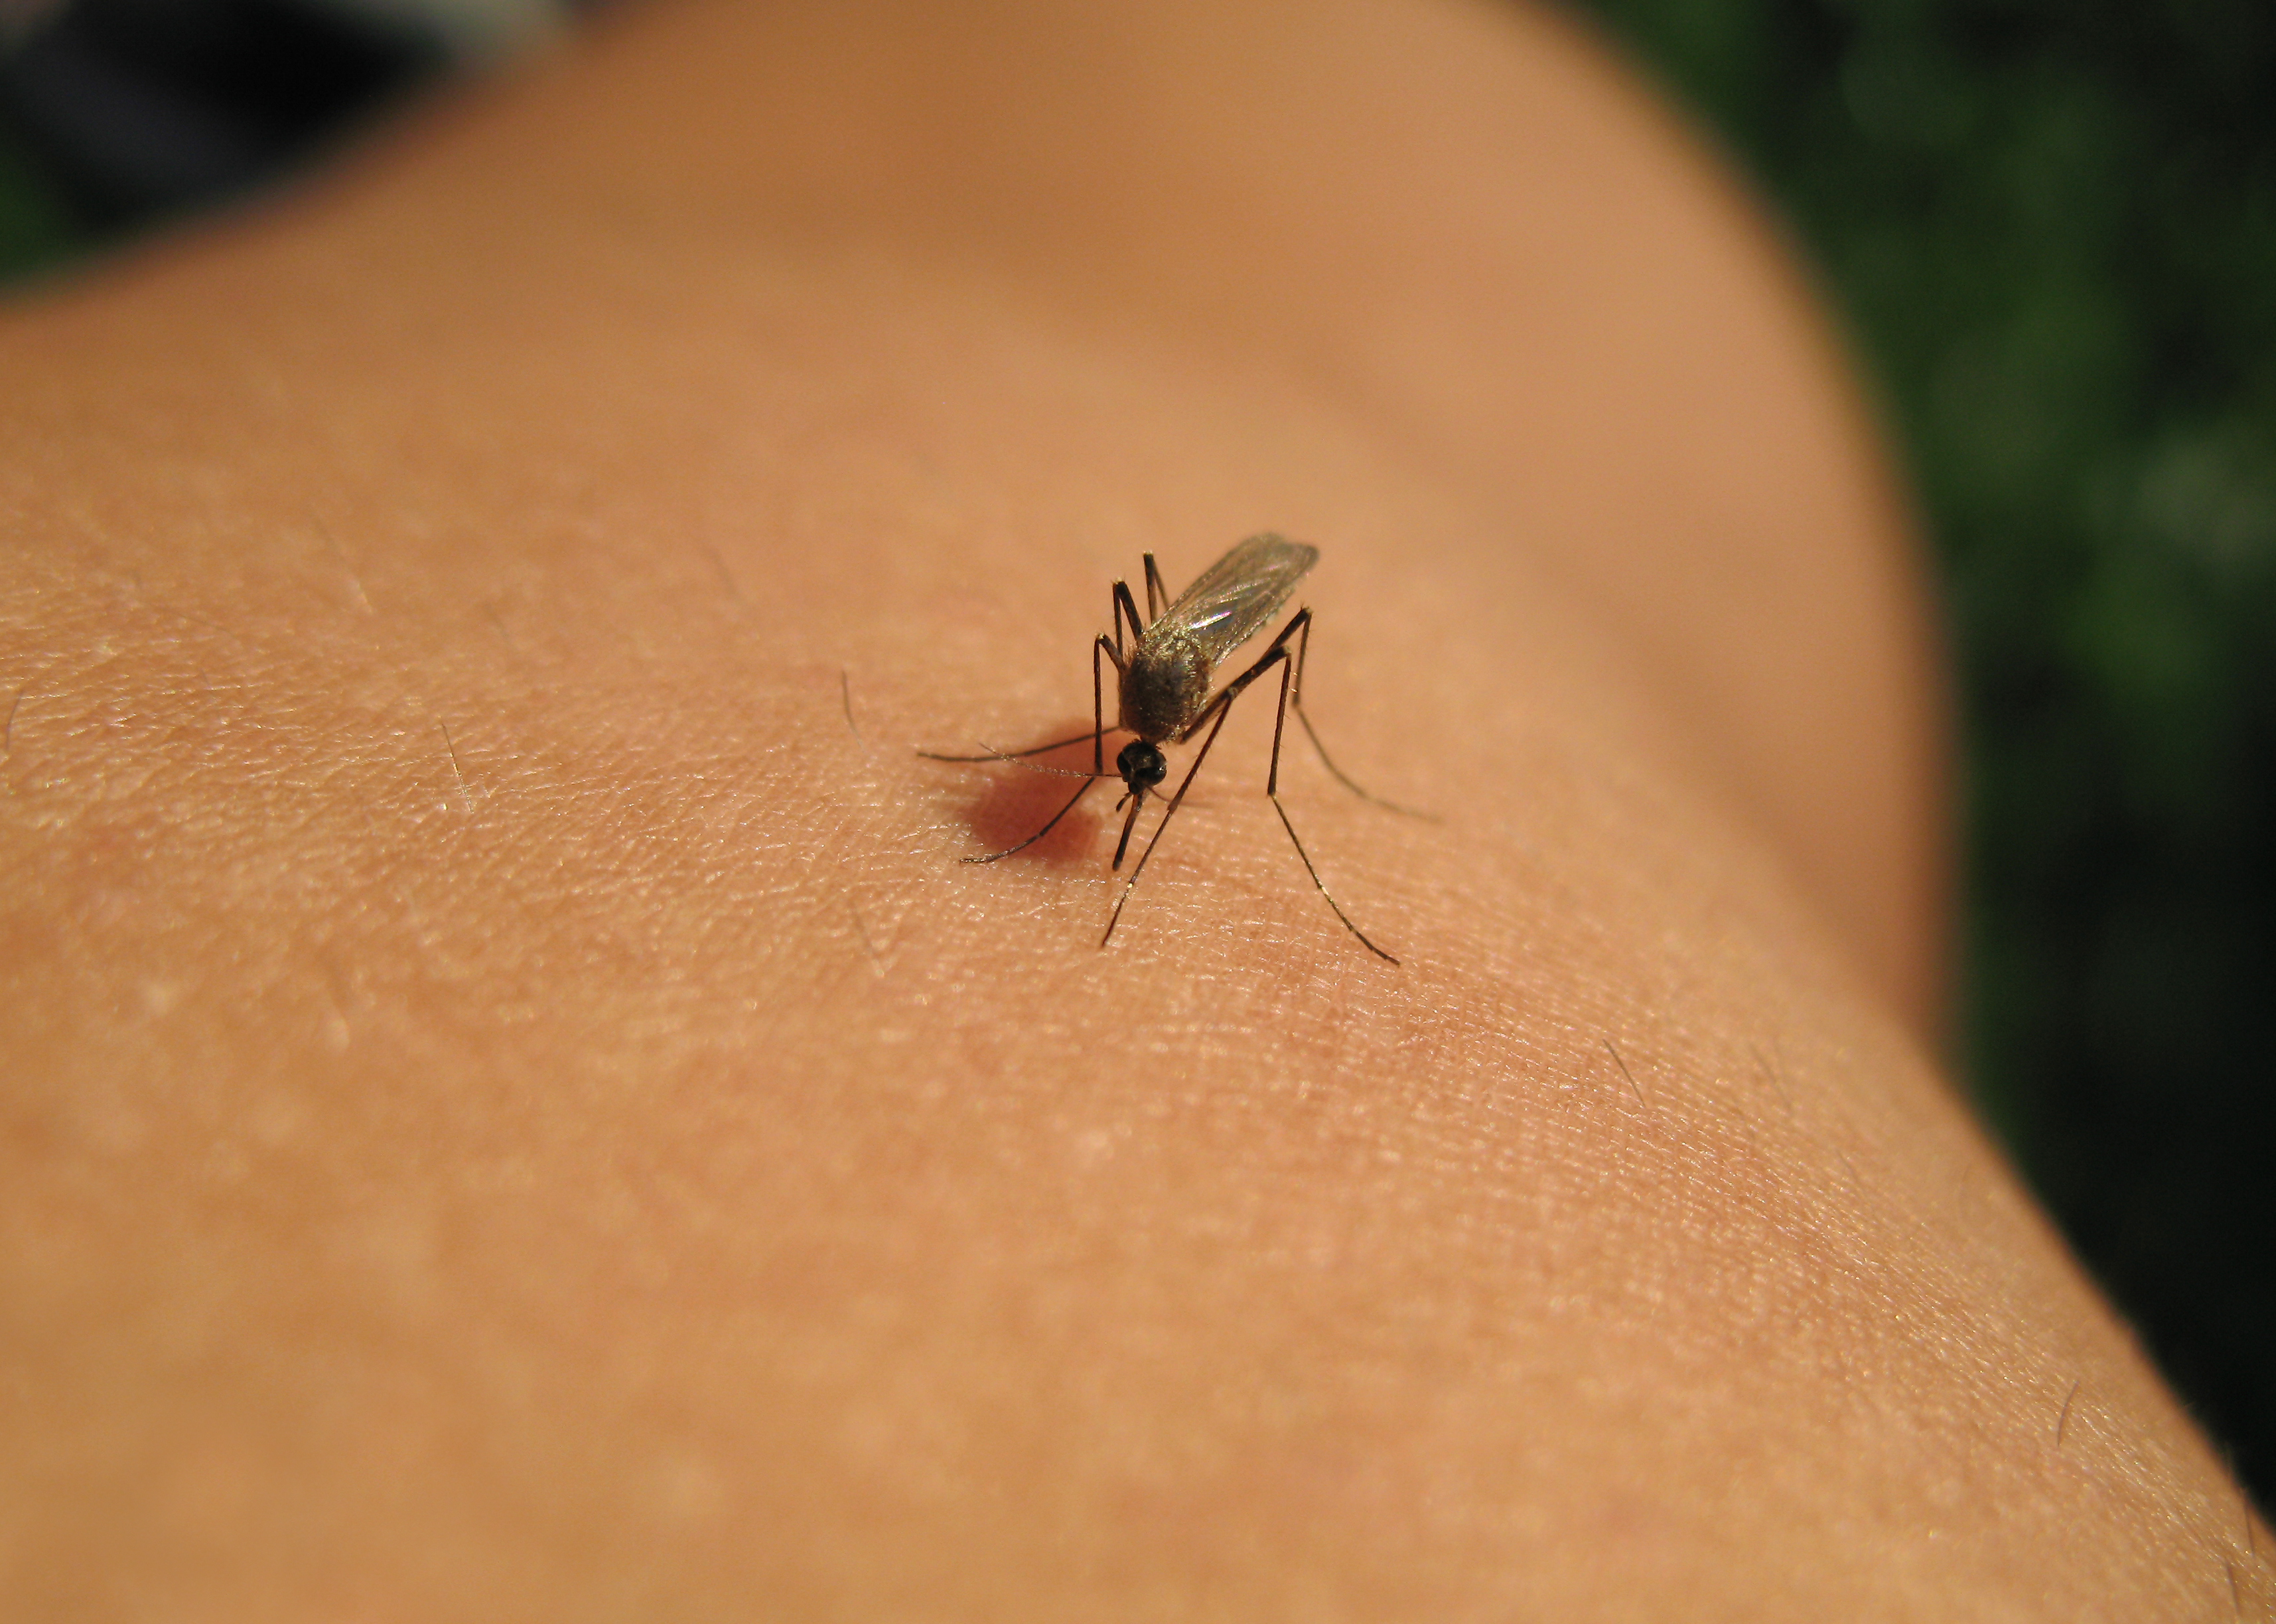dengue_mosquito: (998, 540, 1388, 954)
